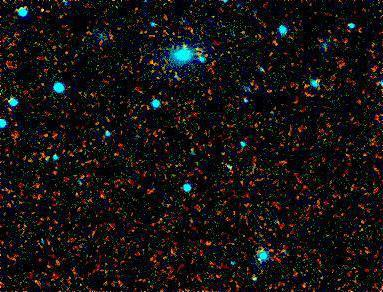star: (169, 32, 199, 62)
